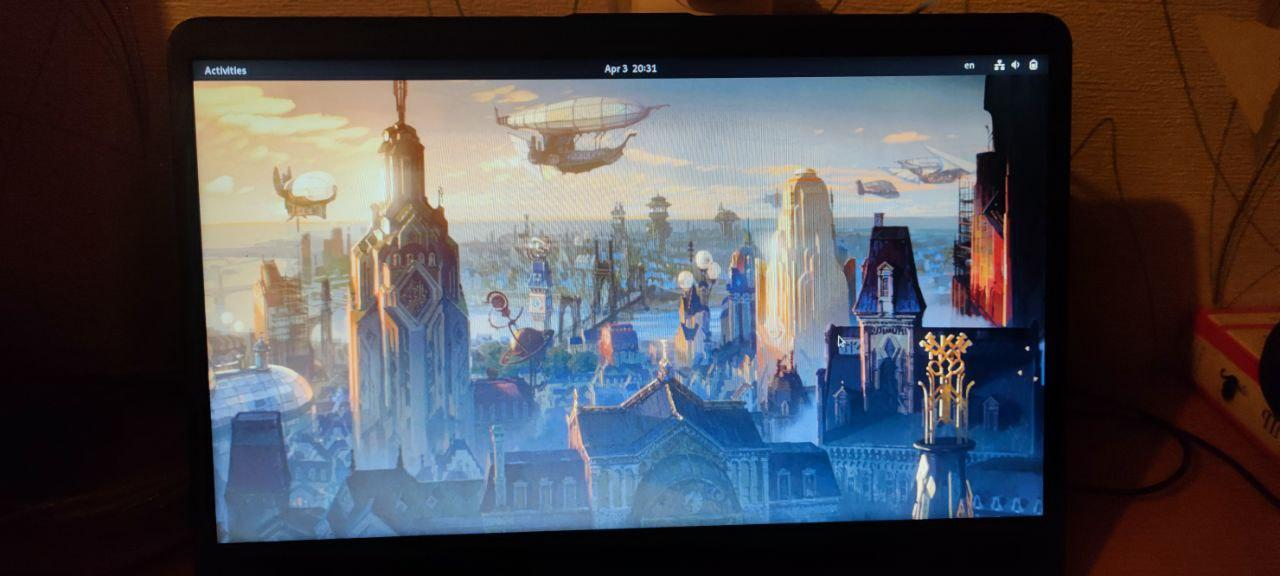monitor: (166, 7, 1073, 576)
